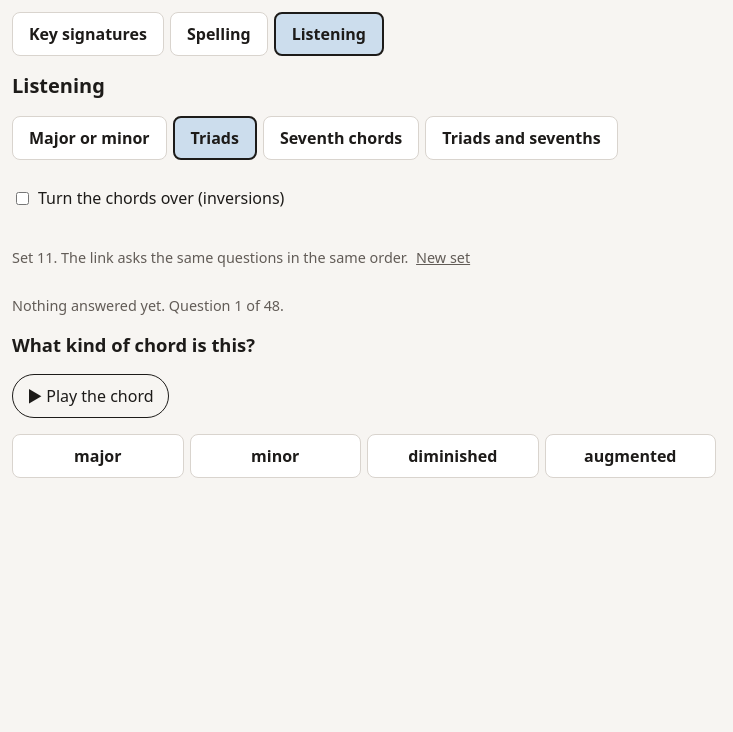
Scenario: Quiz: the listening drill › scores a right answer, then shows the chord and its keys
Click the button "diminished" at (453, 456), box [367,434,538,478]
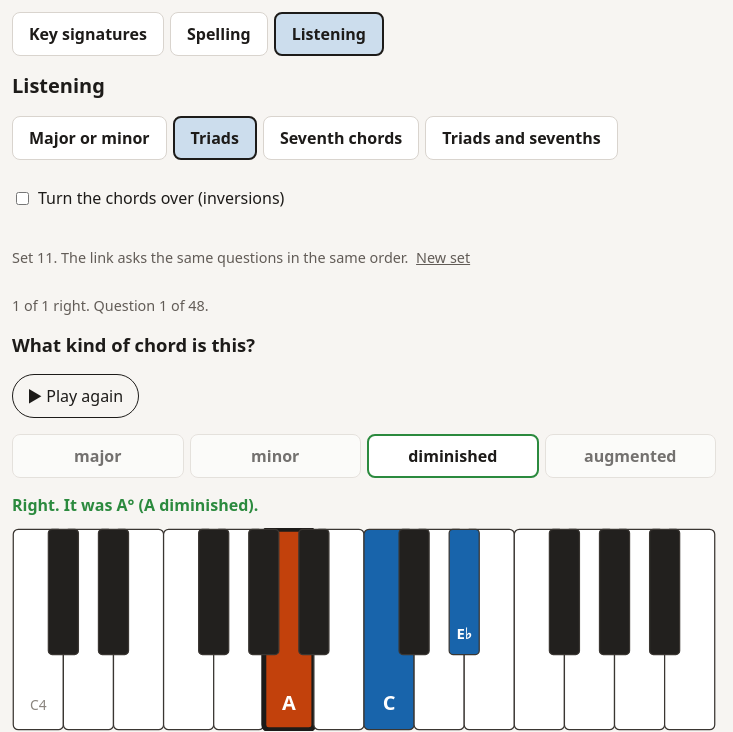
Now the message shows "Right.", box [12,494,60,516]
Now the message shows "A°", box [117,494,134,516]
Now the text "1 of 1 right. Question 1 of 48." is shown, box [12,296,209,315]
